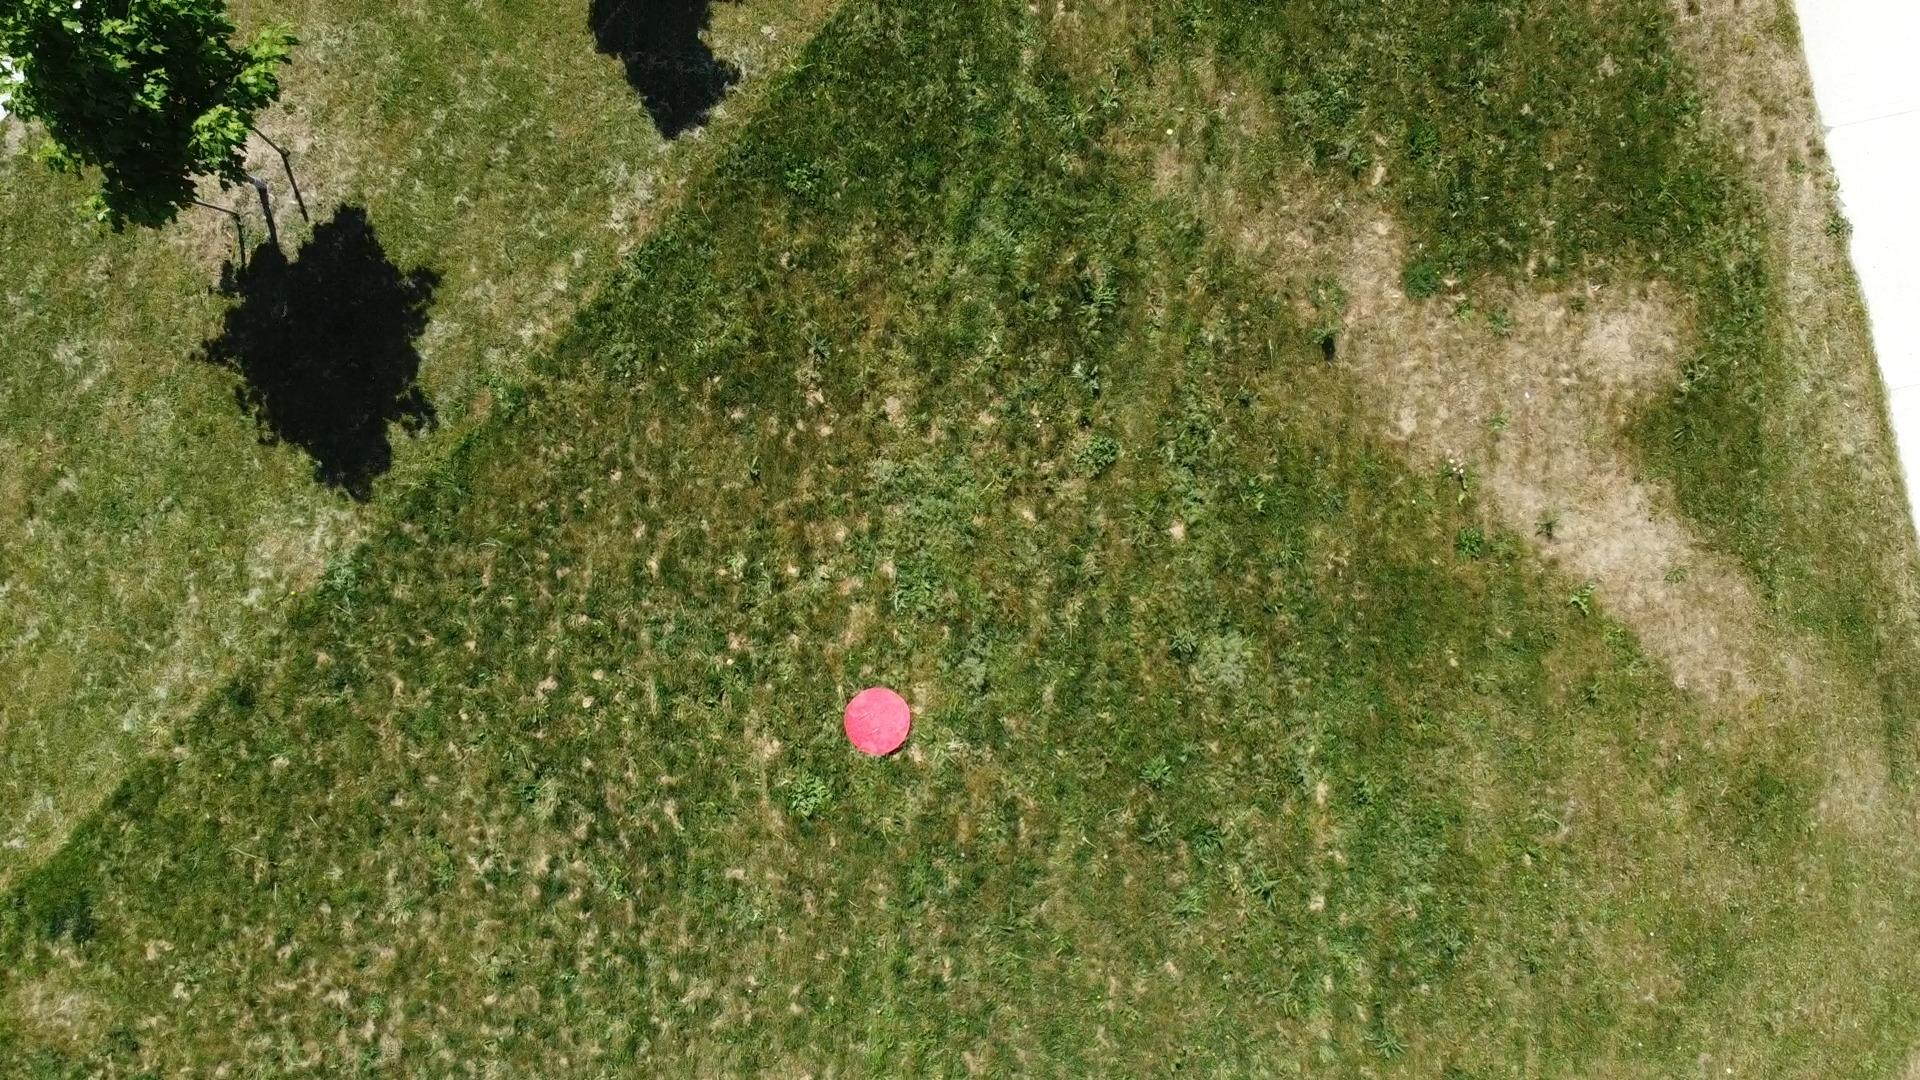Red: (841, 684, 913, 757)
